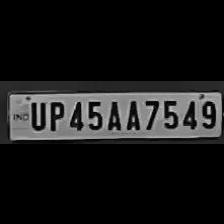4: (64, 97, 84, 130), (180, 96, 198, 128)
5: (84, 96, 104, 130), (160, 96, 178, 130)
7: (140, 96, 158, 130)
9: (198, 96, 218, 128)
A: (104, 96, 122, 130), (122, 96, 140, 130)
P: (45, 97, 65, 130)
U: (27, 97, 46, 129)
